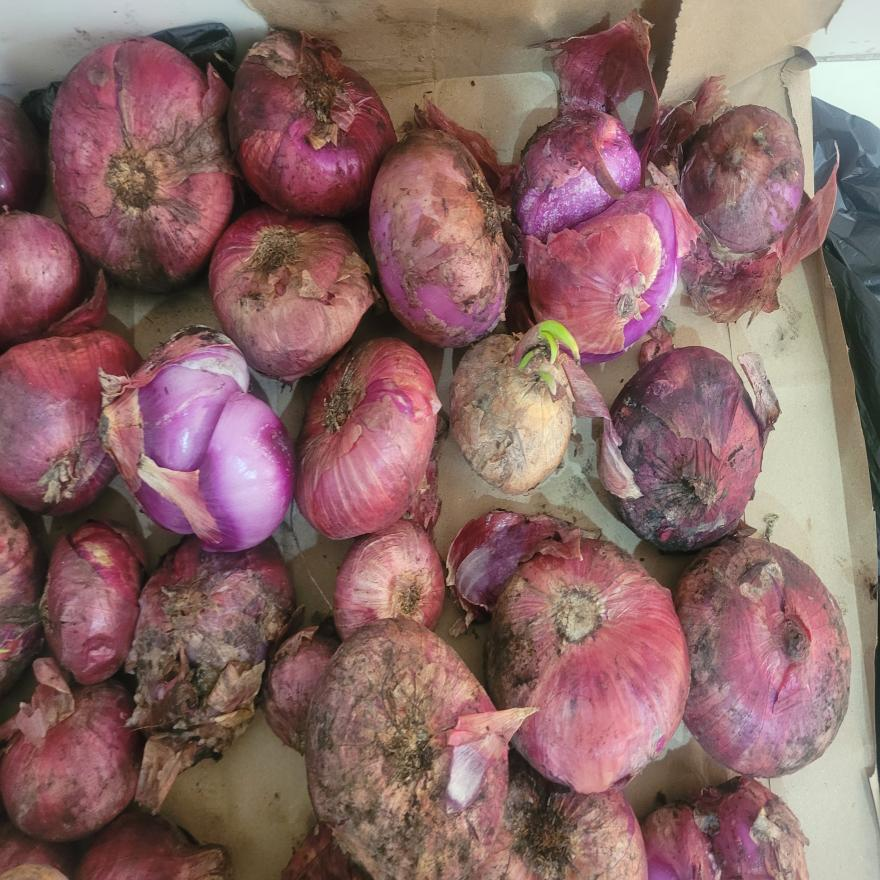Damaged: (506, 88, 686, 372), (105, 314, 303, 567)
